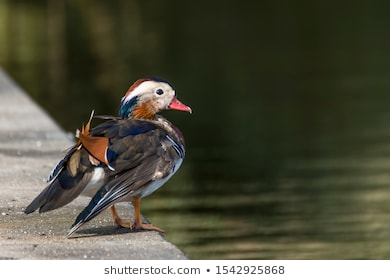duck: (23, 57, 194, 239)
